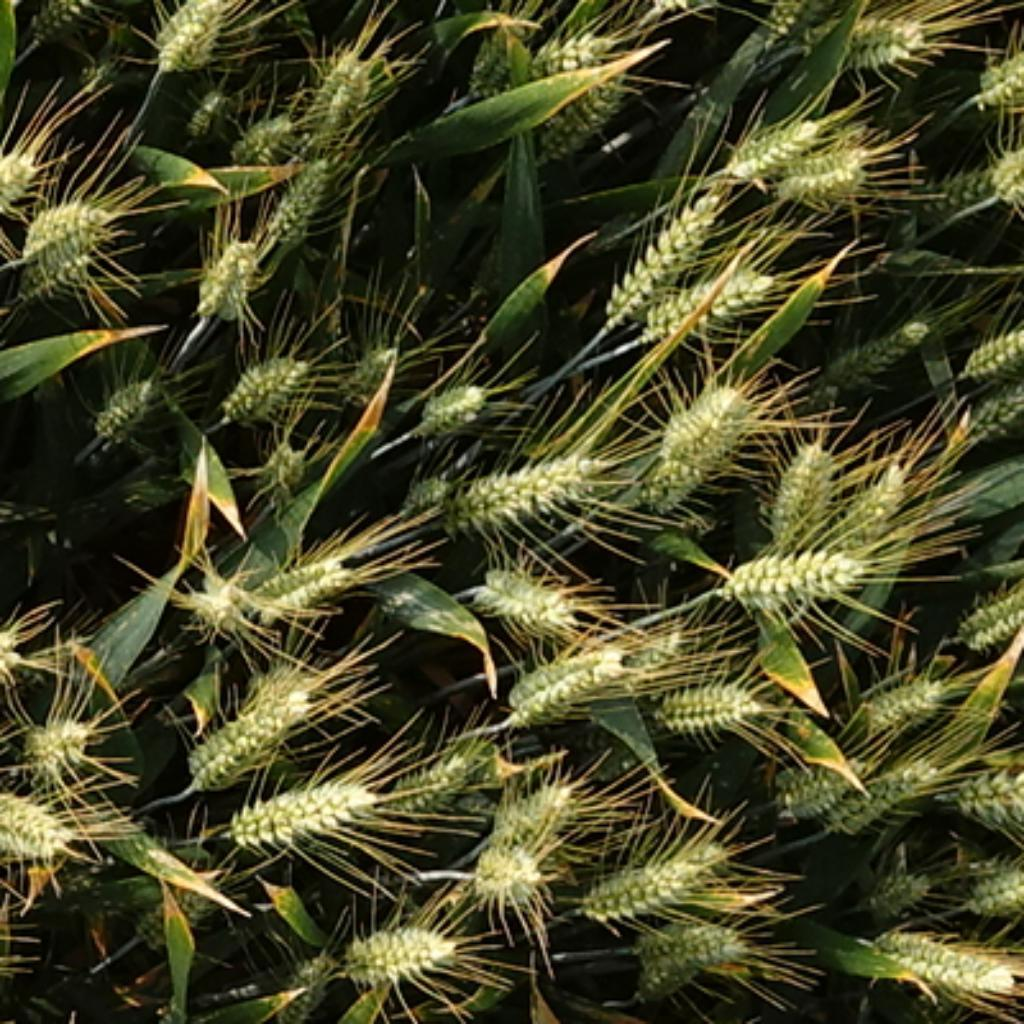0-0: (588, 179, 742, 327), (179, 652, 327, 785), (640, 366, 760, 499), (440, 442, 609, 532), (806, 296, 939, 399), (220, 762, 381, 847), (573, 832, 729, 916), (496, 632, 645, 719), (637, 261, 791, 343), (716, 532, 875, 609), (10, 181, 117, 289), (865, 921, 1016, 993), (824, 747, 942, 832), (529, 58, 634, 153), (384, 724, 494, 811), (130, 875, 238, 960), (337, 906, 458, 980), (299, 33, 384, 135), (910, 152, 1022, 229), (258, 148, 348, 243), (471, 552, 581, 629), (248, 537, 358, 614), (624, 911, 752, 977), (832, 455, 916, 555), (762, 435, 842, 537), (212, 337, 312, 417), (721, 102, 824, 176), (770, 128, 872, 202), (87, 358, 176, 440), (645, 675, 762, 737), (750, 2, 878, 58), (192, 222, 266, 314), (488, 768, 581, 839), (0, 780, 74, 869), (855, 657, 949, 727), (762, 747, 860, 814), (834, 5, 936, 69), (514, 17, 616, 81), (934, 378, 1024, 450), (148, 2, 238, 71), (463, 15, 542, 92), (463, 829, 545, 901), (266, 939, 335, 1024), (604, 624, 698, 686), (944, 760, 1024, 832), (947, 570, 1021, 647), (15, 701, 97, 770), (181, 558, 258, 629), (412, 366, 491, 430), (335, 325, 401, 396), (957, 857, 1024, 926), (627, 954, 721, 1003), (852, 852, 929, 911), (954, 314, 1021, 381), (17, 2, 115, 43), (225, 102, 294, 158), (250, 432, 312, 494), (971, 39, 1024, 111), (184, 79, 248, 135), (0, 135, 38, 222), (394, 460, 450, 506), (988, 143, 1024, 207), (448, 785, 499, 819)
